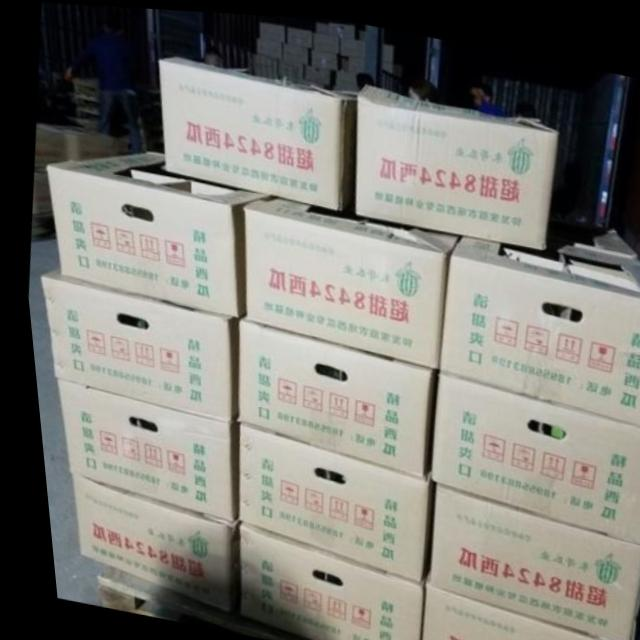box: (433, 231, 640, 422), (421, 368, 640, 537), (240, 193, 456, 364), (43, 150, 267, 314), (416, 479, 640, 640), (351, 79, 556, 244), (232, 316, 428, 474), (229, 422, 423, 579), (34, 267, 230, 422), (156, 55, 354, 208), (50, 380, 228, 518), (59, 472, 223, 611), (227, 518, 411, 640), (408, 581, 602, 640)
